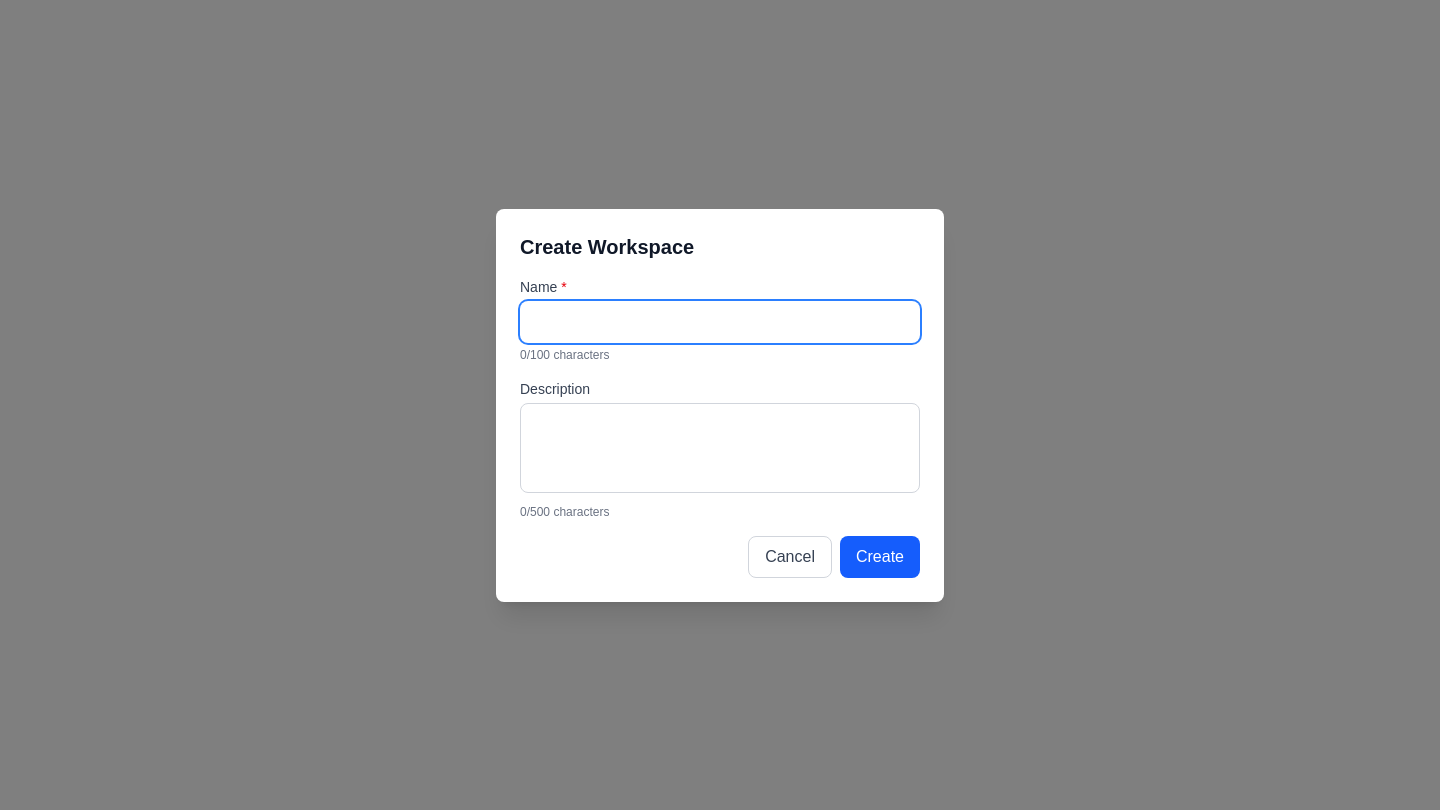
Test: WorkspaceCreateModal › Form Input › should update character counter for description
Type "Test description" into the text box labelled "Description". click: point(720, 448)
box: [520,402,920,492]
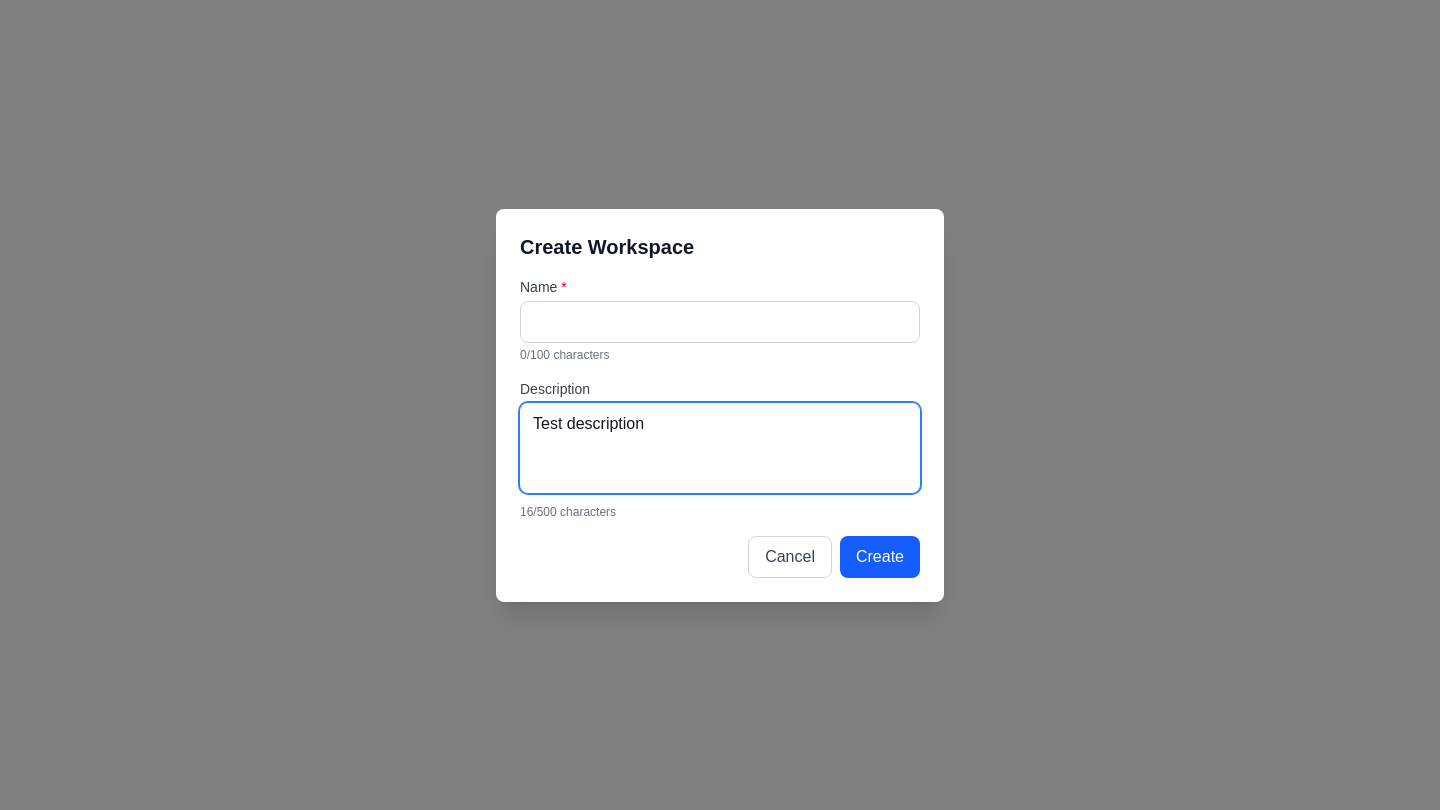
Result: the text "16/500 characters" is shown at [520,504,616,518]
